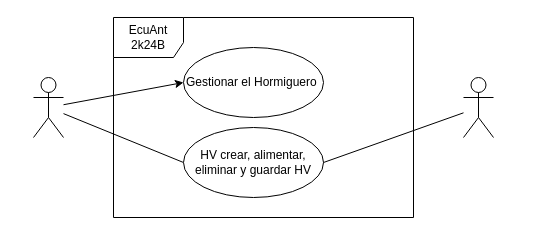
The diagram is 544 pixels wide and 235 high, and some of its shapes have lost their labels. Here are the shapes that lost their labels. From the top down, the centre of each, then its label:
At point 48,107: "entomólogo".
At point 478,107: "HormigueroVirtual".
